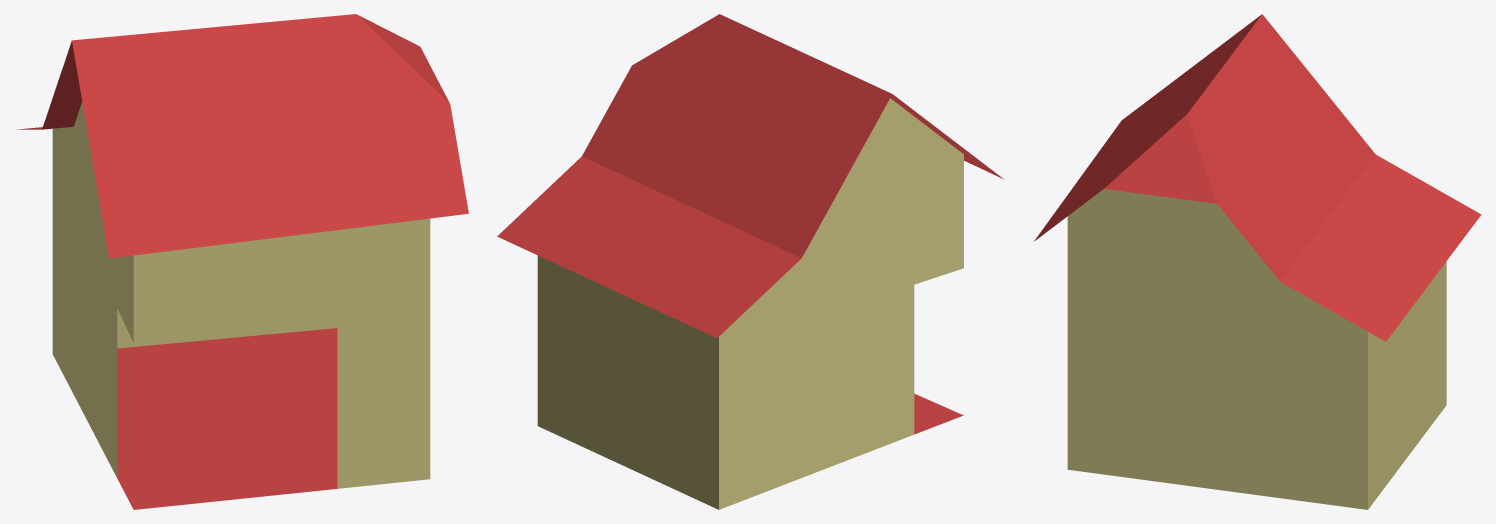
The picture shows the model from 3 angles, left to right: view 1: azimuth 30°, elevation 25°; view 2: azimuth 150°, elevation 25°; view 3: azimuth 270°, elevation 25°; orthographic projection. The views are drawn at different scales.
Bounding box in the file's own units: 14.96 × 16.14 × 14.07.
